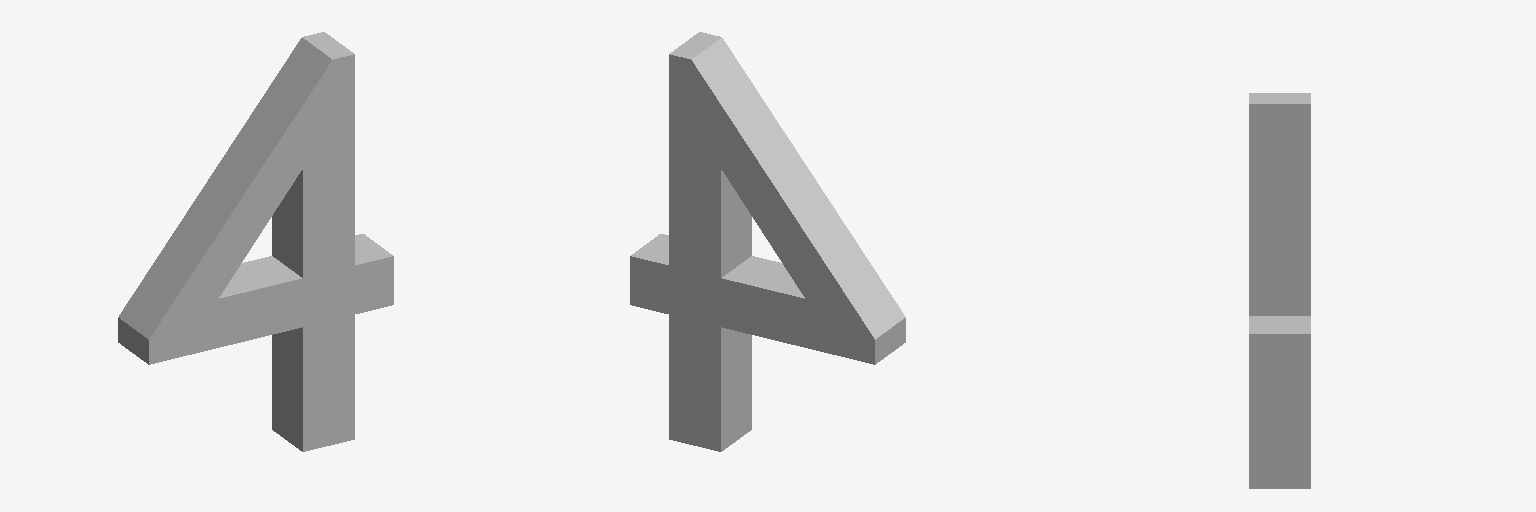
3 renders of one model, left to right at view 1: azimuth 30°, elevation 25°; view 2: azimuth 150°, elevation 25°; view 3: azimuth 270°, elevation 25°, orthographic.
Visible parts, largest first — view 1: Text.003_CUText.003; view 2: Text.003_CUText.003; view 3: Text.003_CUText.003.
Boxes of the visible parts, x1=… form: Text.003_CUText.003: x1=118, y1=32, x2=393, y2=451; Text.003_CUText.003: x1=630, y1=32, x2=905, y2=451; Text.003_CUText.003: x1=1249, y1=93, x2=1310, y2=488.
Bounding box in the file's own units: 0.46 × 0.691 × 0.1.